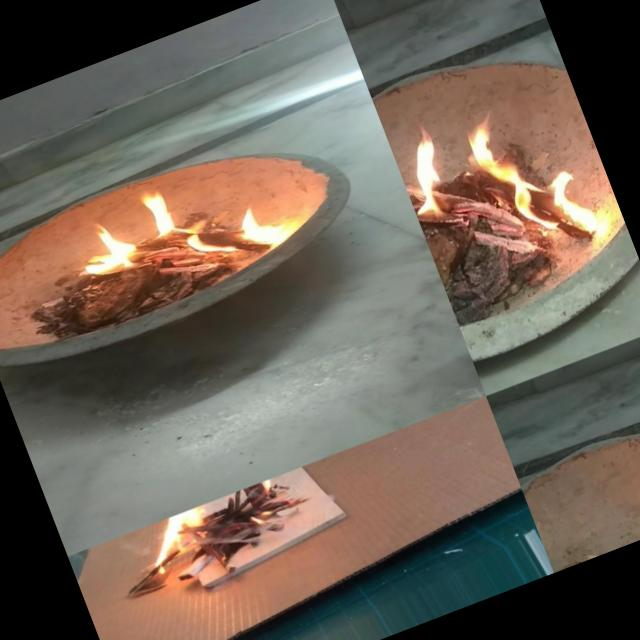fire: (49, 140, 298, 322), (457, 84, 608, 266), (136, 477, 295, 581), (391, 130, 470, 235), (585, 495, 640, 560)
